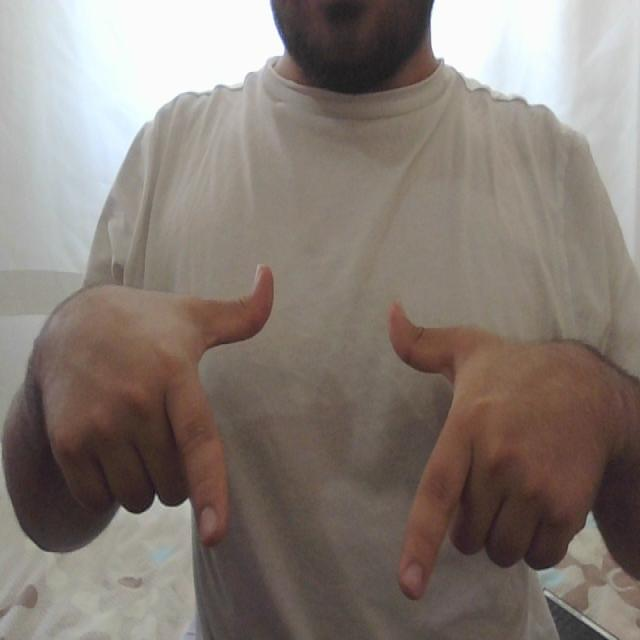Nerede: (161, 259, 493, 607)
